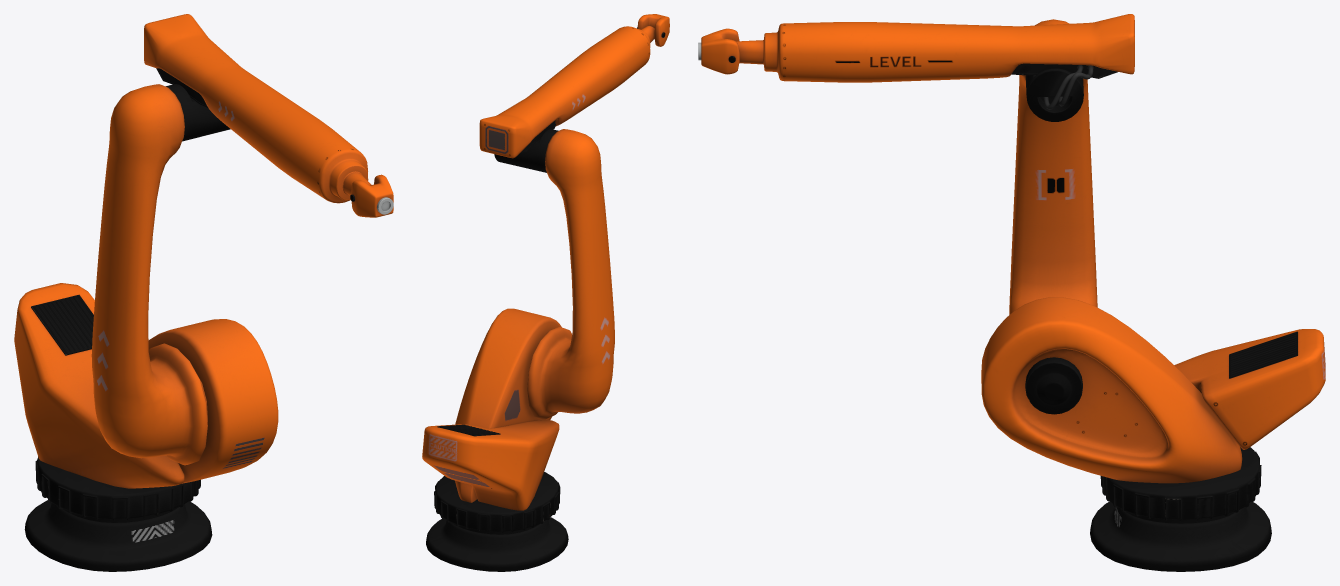
Rendered from robo_arm_low_tex.gltf.
The picture shows the model from 3 angles, left to right: view 1: azimuth 30°, elevation 25°; view 2: azimuth 150°, elevation 25°; view 3: azimuth 270°, elevation 25°; orthographic projection. The views are drawn at different scales.
Parts seen in each view (by area): view 1: lvl_1, lvl_2, lvl_3, Base, lvl_4; view 2: lvl_1, lvl_2, lvl_3, Base, lvl_4; view 3: lvl_1, lvl_3, lvl_2, Base, lvl_4.
Boxes of the visible parts, left/top/right/bottom form: lvl_1: left=14, top=283, right=278, bottom=522; lvl_2: left=91, top=84, right=207, bottom=465; lvl_3: left=144, top=14, right=371, bottom=203; Base: left=24, top=500, right=212, bottom=571; lvl_4: left=350, top=174, right=393, bottom=217; lvl_1: left=422, top=308, right=561, bottom=534; lvl_2: left=527, top=129, right=614, bottom=419; lvl_3: left=479, top=26, right=654, bottom=172; Base: left=426, top=517, right=568, bottom=571; lvl_4: left=637, top=14, right=669, bottom=46; lvl_1: left=981, top=297, right=1325, bottom=523; lvl_3: left=736, top=14, right=1134, bottom=121; lvl_2: left=1009, top=19, right=1097, bottom=414; Base: left=1090, top=501, right=1271, bottom=571; lvl_4: left=698, top=28, right=739, bottom=74.
Bounding box in the file's own units: 0.6382 × 2.01 × 2.19.
1 material, 1 textured.
